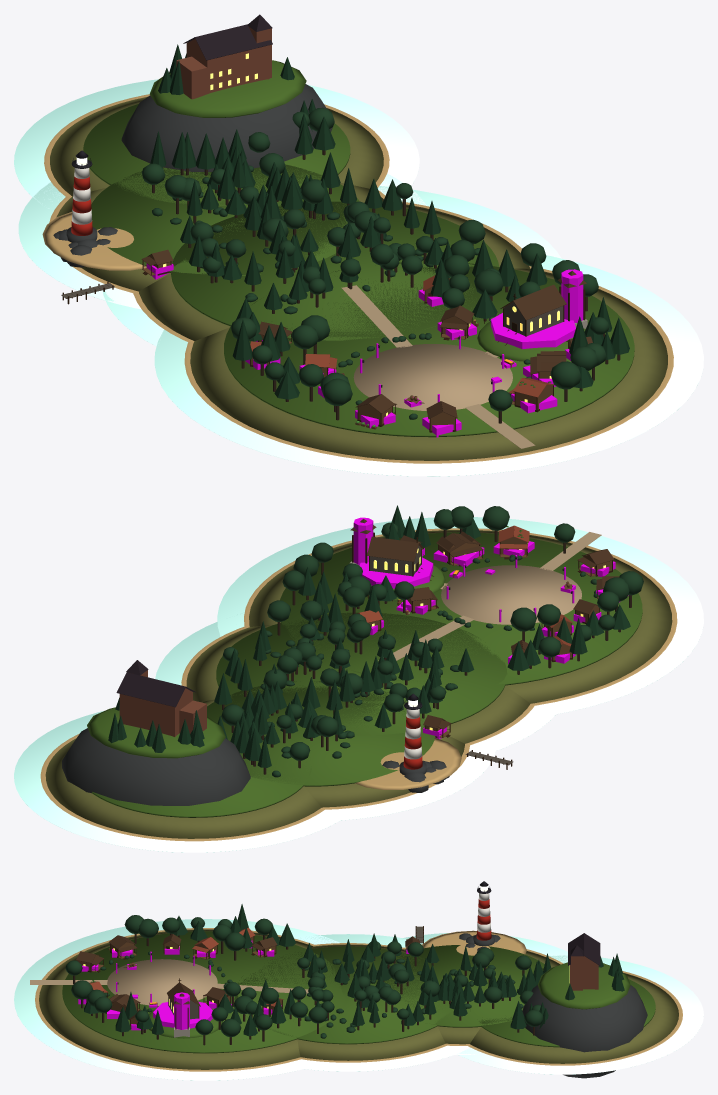
The model's file is tipora.glb.
3 renders of one model, top to bottom at view 1: azimuth 30°, elevation 25°; view 2: azimuth 150°, elevation 25°; view 3: azimuth 270°, elevation 25°, orthographic. The views are drawn at different scales.
Parts seen in each view (by area): view 1: static_MAT_METAL_foliage_pine, static_MAT_CLOTH_foliage_round, GROUND_grass0, GROUND_slope0, GROUND_grass1, GROUND_foam0, static_MAT_CLOTH_rock_coast, GROUND_grass2, GROUND_square, GROUND_foam3, GROUND_grass3, GROUND_slope3 (+22 smaller); view 2: static_MAT_CLOTH_foliage_round, static_MAT_METAL_foliage_pine, GROUND_grass1, GROUND_grass0, GROUND_foam0, static_MAT_CLOTH_rock_coast, GROUND_grass2, GROUND_slope0, GROUND_slope3, GROUND_foam3, GROUND_square, GROUND_slope1 (+21 smaller); view 3: GROUND_grass0, static_MAT_CLOTH_foliage_round, static_MAT_METAL_foliage_pine, GROUND_foam0, GROUND_slope0, GROUND_grass1, static_MAT_CLOTH_rock_coast, GROUND_foam3, GROUND_grass2, GROUND_slope3, GROUND_square, GROUND_slope1 (+21 smaller).
Boxes of the visible parts, x1,y1,x2,y2 form: static_MAT_METAL_foliage_pine: (150, 44, 629, 399); static_MAT_CLOTH_foliage_round: (141, 107, 609, 419); GROUND_grass0: (224, 262, 634, 437); GROUND_slope0: (190, 268, 667, 460); GROUND_grass1: (171, 201, 499, 340); GROUND_foam0: (154, 255, 703, 476); static_MAT_CLOTH_rock_coast: (53, 84, 334, 267); GROUND_grass2: (91, 164, 359, 275); GROUND_square: (353, 344, 512, 410); GROUND_foam3: (14, 79, 419, 208); GROUND_grass3: (83, 104, 350, 205); GROUND_slope3: (50, 96, 383, 196); static_MAT_CLOTH_foliage_round: (221, 506, 643, 777); static_MAT_METAL_foliage_pine: (108, 505, 630, 767); GROUND_grass1: (216, 612, 507, 735); GROUND_grass0: (280, 532, 642, 685); GROUND_foam0: (217, 517, 703, 719); static_MAT_CLOTH_rock_coast: (62, 728, 449, 805); GROUND_grass2: (207, 681, 435, 786); GROUND_slope0: (249, 530, 672, 703); GROUND_slope3: (45, 738, 321, 838); GROUND_foam3: (14, 711, 353, 852); GROUND_square: (441, 565, 581, 624); GROUND_slope1: (186, 625, 530, 743); GROUND_grass0: (62, 931, 347, 1053); static_MAT_CLOTH_foliage_round: (65, 915, 542, 1038); static_MAT_METAL_foliage_pine: (84, 904, 624, 1036); GROUND_foam0: (14, 919, 340, 1080); GROUND_slope0: (39, 929, 312, 1069); GROUND_grass1: (234, 946, 453, 1044); static_MAT_CLOTH_rock_coast: (459, 933, 647, 1078); GROUND_foam3: (457, 955, 703, 1074); GROUND_grass2: (370, 945, 544, 1027); GROUND_slope3: (470, 973, 678, 1063); GROUND_square: (107, 959, 217, 1005); GROUND_slope1: (297, 944, 445, 1060).
Size of what is drawn, in the model's own units: 107 by 40.6 by 193.
